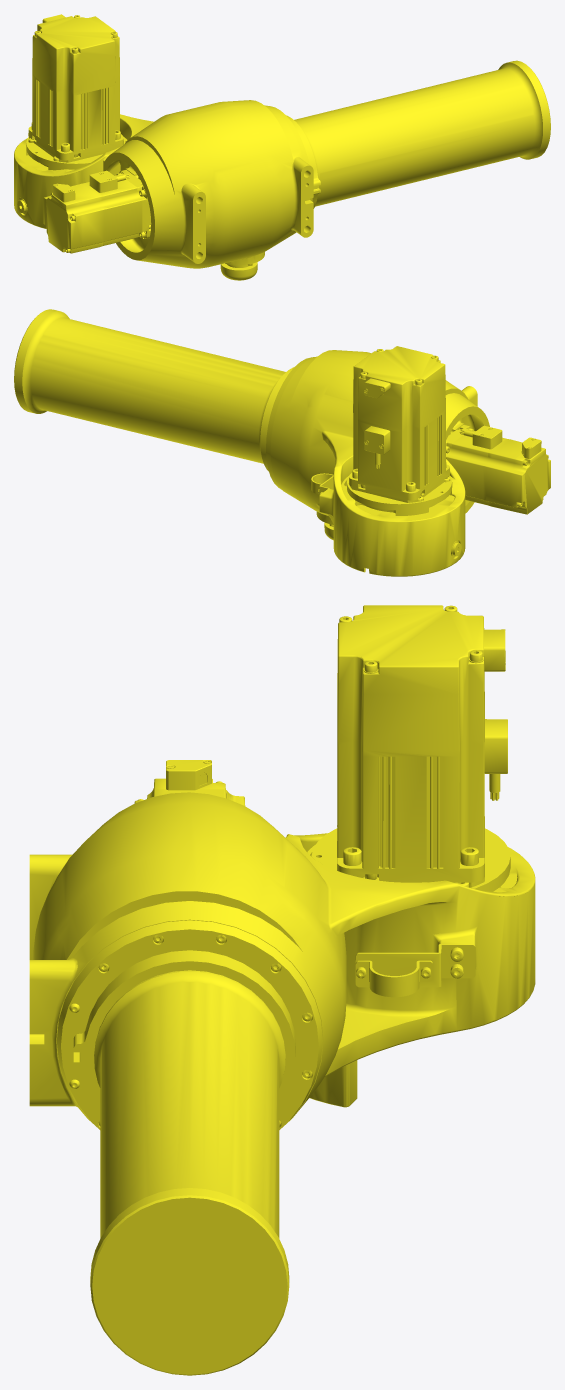
3 renders of one model, top to bottom at view 1: azimuth 30°, elevation 25°; view 2: azimuth 150°, elevation 25°; view 3: azimuth 270°, elevation 25°, orthographic. The views are drawn at different scales.
Visible parts, largest first — view 1: /Link3/Link3_001-mesh/0; view 2: /Link3/Link3_001-mesh/0; view 3: /Link3/Link3_001-mesh/0.
Boxes of the visible parts, <box> form: /Link3/Link3_001-mesh/0: <box>14,14,550,280</box>; /Link3/Link3_001-mesh/0: <box>14,309,550,576</box>; /Link3/Link3_001-mesh/0: <box>29,605,535,1375</box>.
Size of the model in its own units: 0.588 by 0.2737 by 0.2745.
